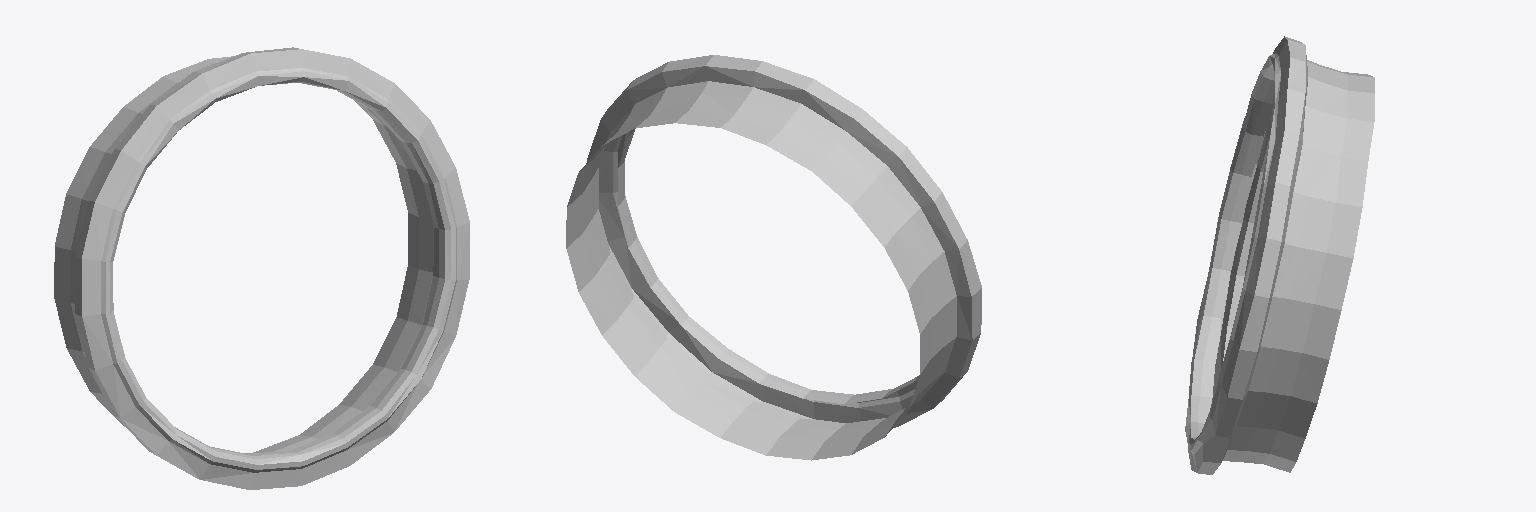
The model's file is X02CollarNeck.obj.
3 renders of one model, left to right at view 1: azimuth 30°, elevation 25°; view 2: azimuth 150°, elevation 25°; view 3: azimuth 270°, elevation 25°, orthographic.
Parts seen in each view (by area): view 1: CPT; view 2: CPT; view 3: CPT.
Boxes of the visible parts, x1=… form: CPT: x1=54, y1=47, x2=469, y2=489; CPT: x1=566, y1=55, x2=981, y2=460; CPT: x1=1185, y1=36, x2=1374, y2=474.
Size of the model in its own units: 18.65 by 18.26 by 7.88.